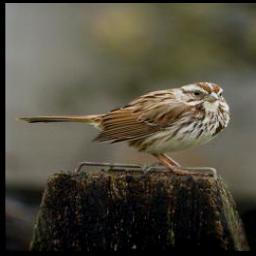Sparrow: (18, 80, 231, 176)
